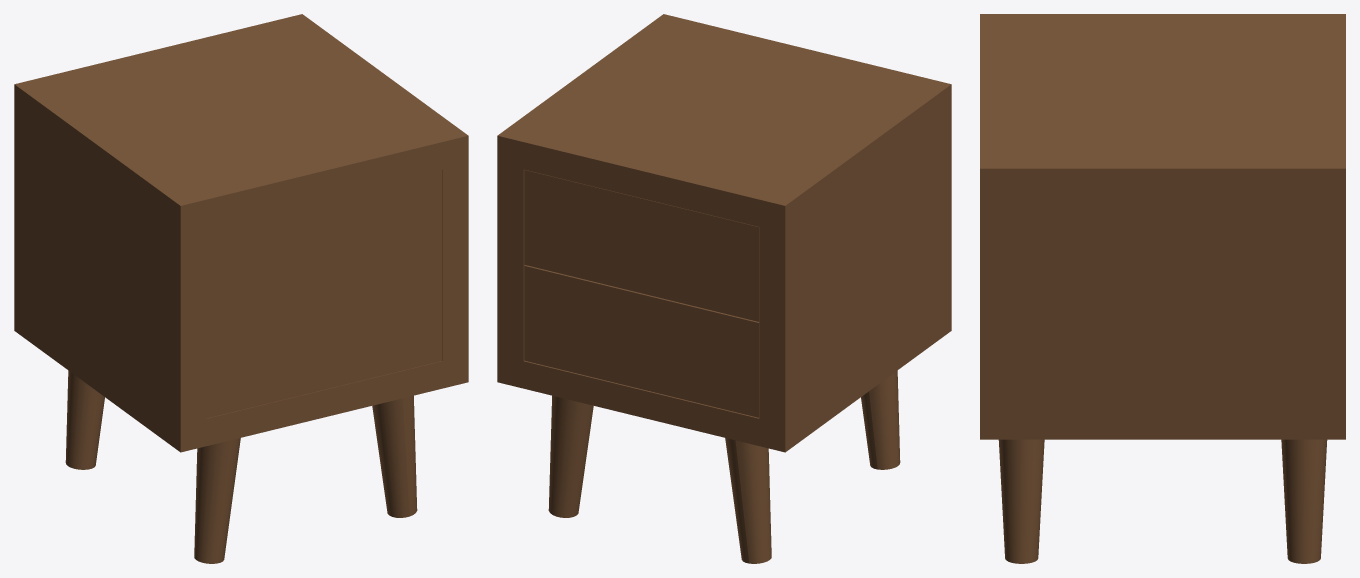
File: Nightstand.glb
3 renders of one model, left to right at view 1: azimuth 30°, elevation 25°; view 2: azimuth 150°, elevation 25°; view 3: azimuth 270°, elevation 25°, orthographic. The views are drawn at different scales.
Visible parts, largest first — view 1: Frame, Back, RoundLegs (×3); view 2: Frame, Drawer (×2), RoundLegs (×3); view 3: Frame, RoundLegs (×2).
Part boxes in pixels (left/top/right/bottom): Frame: left=14, top=14, right=468, bottom=452; Back: left=206, top=169, right=441, bottom=418; RoundLegs (×3): left=65, top=370, right=417, bottom=563; Frame: left=497, top=14, right=951, bottom=452; Drawer (×2): left=524, top=170, right=759, bottom=417; RoundLegs (×3): left=548, top=370, right=900, bottom=563; Frame: left=980, top=14, right=1345, bottom=439; RoundLegs (×2): left=998, top=439, right=1327, bottom=563.
Bounding box in the file's own units: 0.55 × 0.6912 × 0.55.
